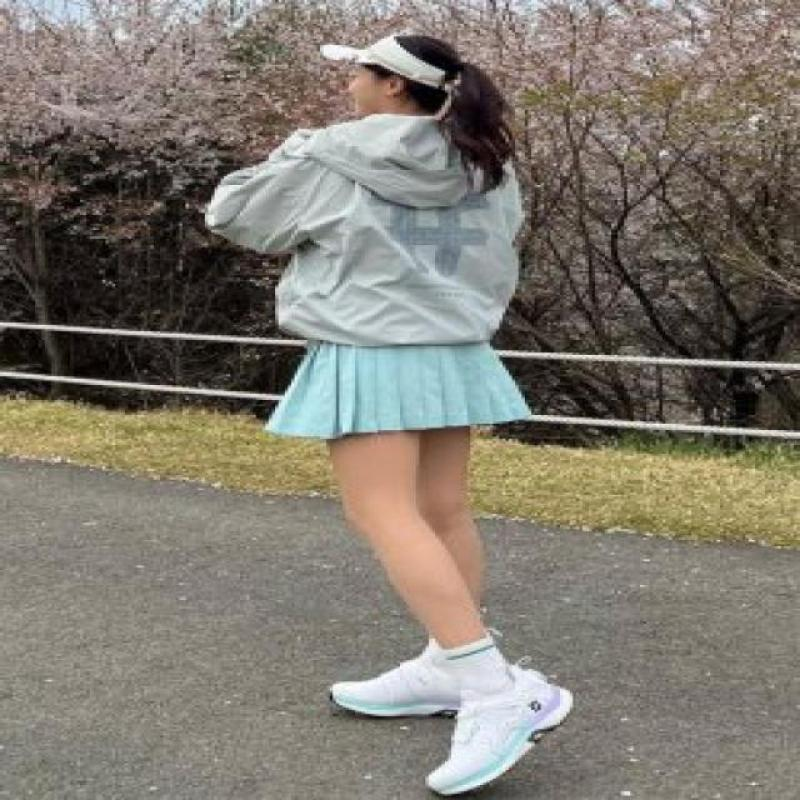jacket: (202, 109, 524, 346)
skirt: (262, 340, 532, 442)
